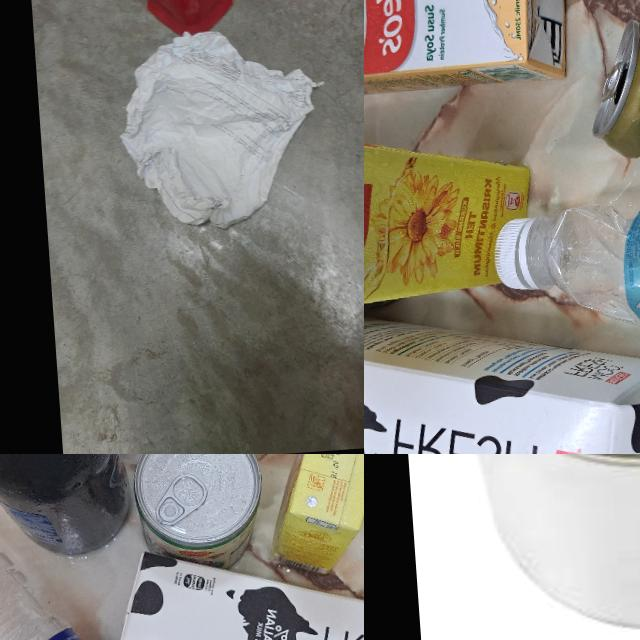aba de lata: (152, 471, 209, 526), (598, 61, 625, 102)
caixinha: (364, 292, 640, 454), (364, 125, 539, 304), (102, 529, 364, 640), (364, 0, 574, 97), (265, 454, 364, 579)
garrafa de vidro: (0, 454, 137, 562)
garrafa plástica: (522, 165, 640, 454), (0, 500, 186, 640)
lata: (414, 454, 640, 640), (126, 454, 268, 574)
papel: (108, 21, 334, 235)
tampa plástica: (491, 216, 536, 292)
